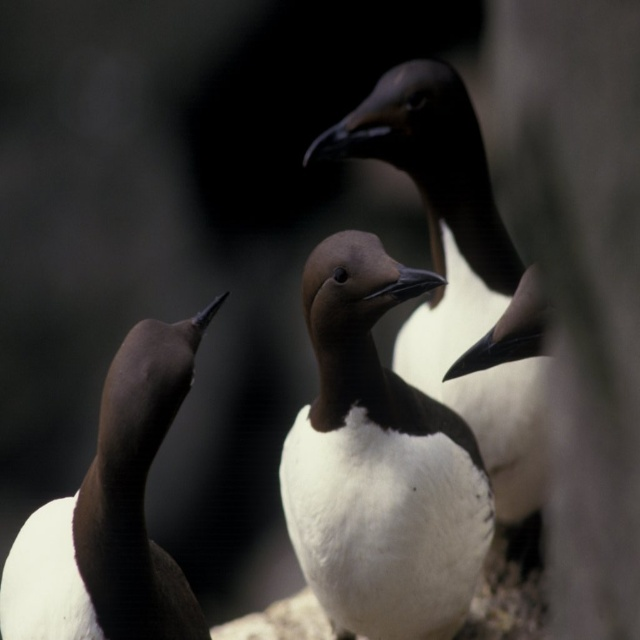Penguin: (265, 201, 512, 619)
